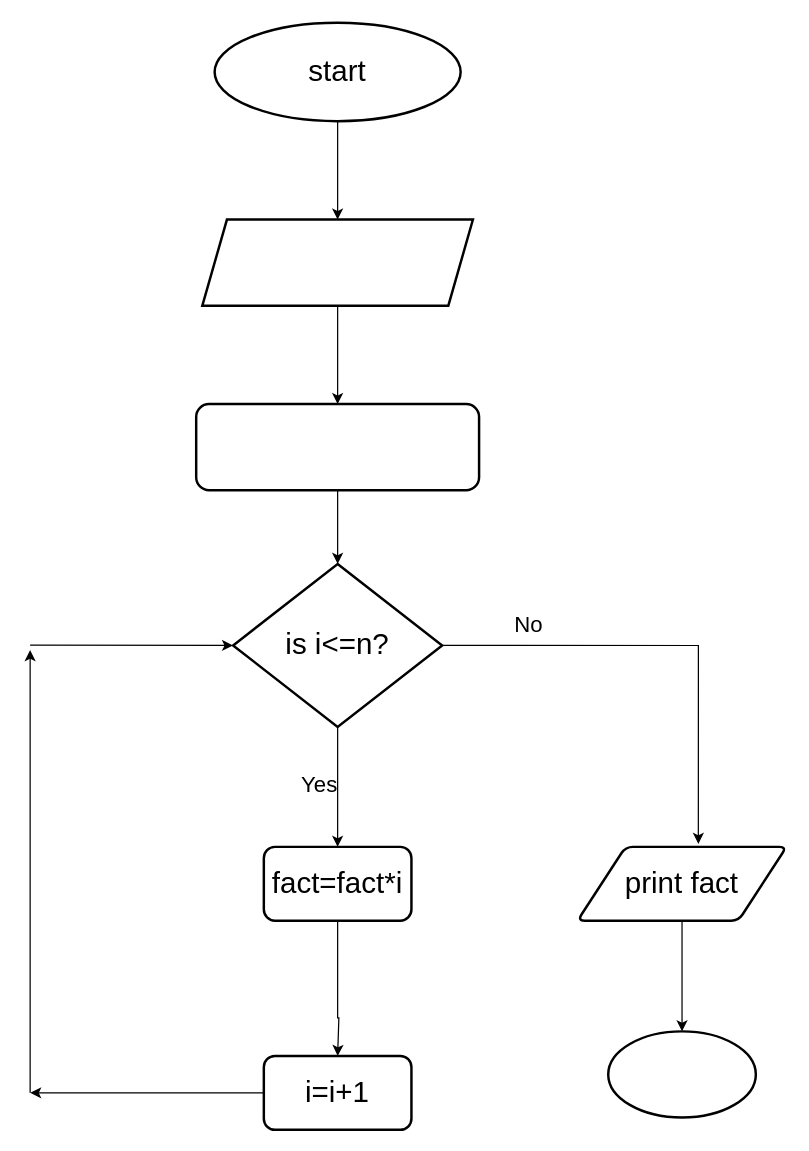
Some shapes in this 809 by 1151 pixel diagram are drawn without their labels. Each missing label, with the centre of its shape:
"i=1 fact=1" goes at pixel 337 446.
"read n" goes at pixel 337 262.
"stop" goes at pixel 681 1074.
